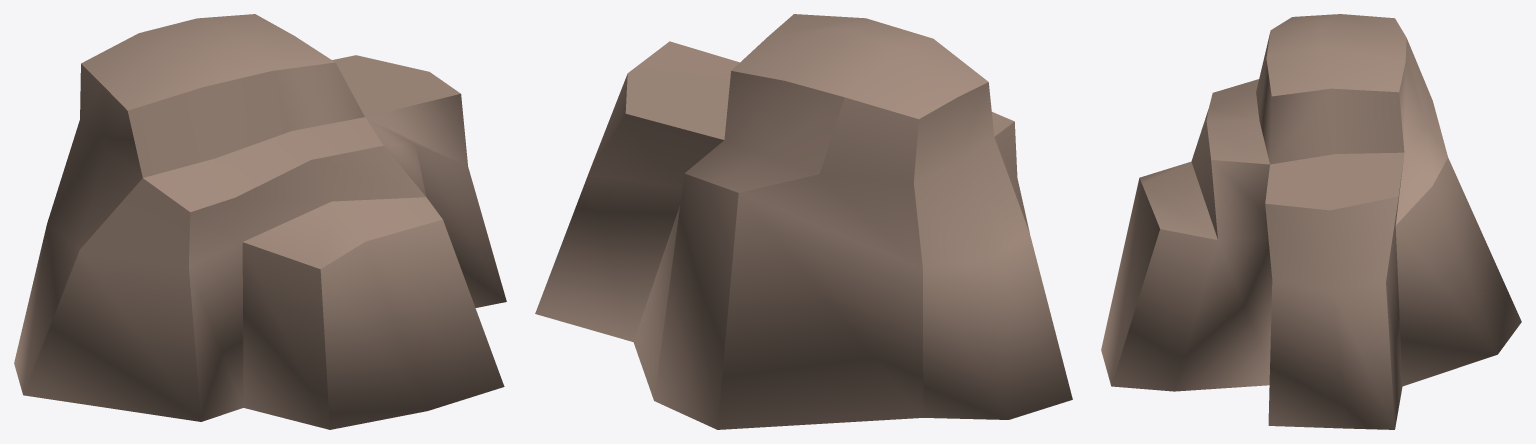
File: Rock2.fbx
3 views of the same model, side by side, from view 1: azimuth 30°, elevation 25°; view 2: azimuth 150°, elevation 25°; view 3: azimuth 270°, elevation 25° (orthographic). The views are drawn at different scales.
Visible parts, largest first — view 1: BigRock3.005; view 2: BigRock3.005; view 3: BigRock3.005.
Boxes of the visible parts, box(x1,y1,x2,y2) form: BigRock3.005: box(14, 14, 506, 429); BigRock3.005: box(535, 14, 1072, 429); BigRock3.005: box(1101, 14, 1521, 429).
Bounding box in the file's own units: 814 × 501 × 697.
